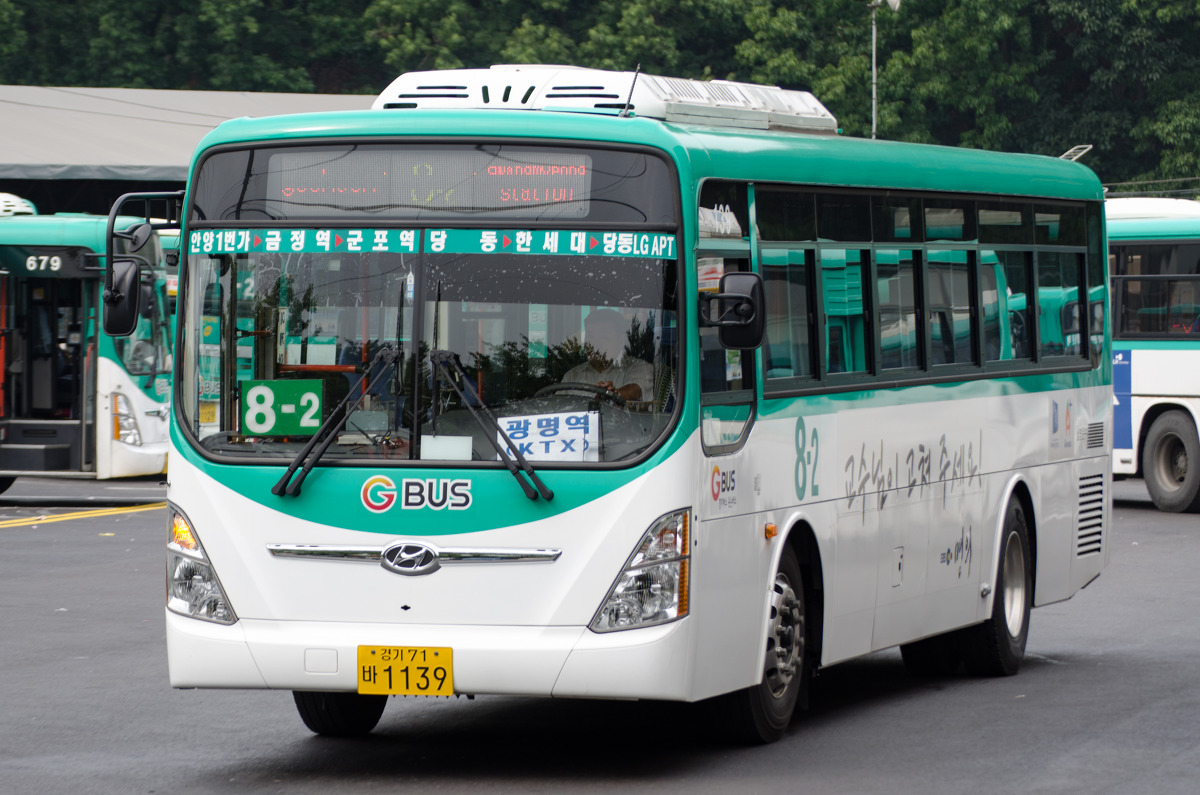bnum: (244, 381, 321, 431)
